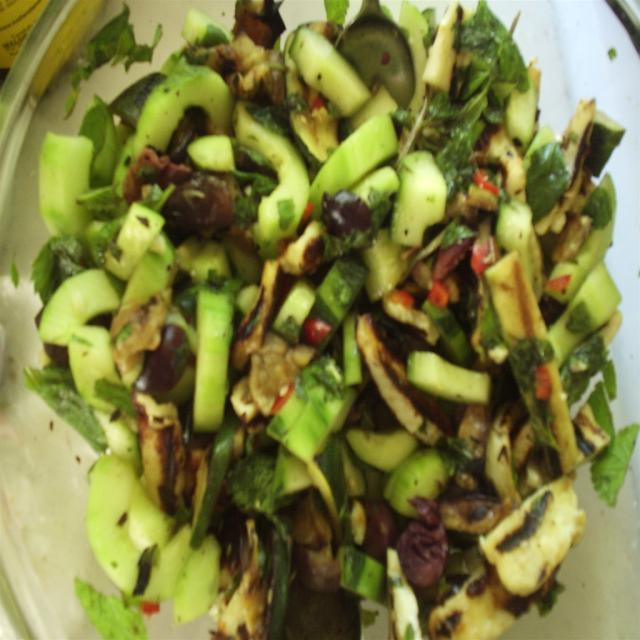Zucchini: (12, 0, 634, 631), (232, 97, 307, 248)
